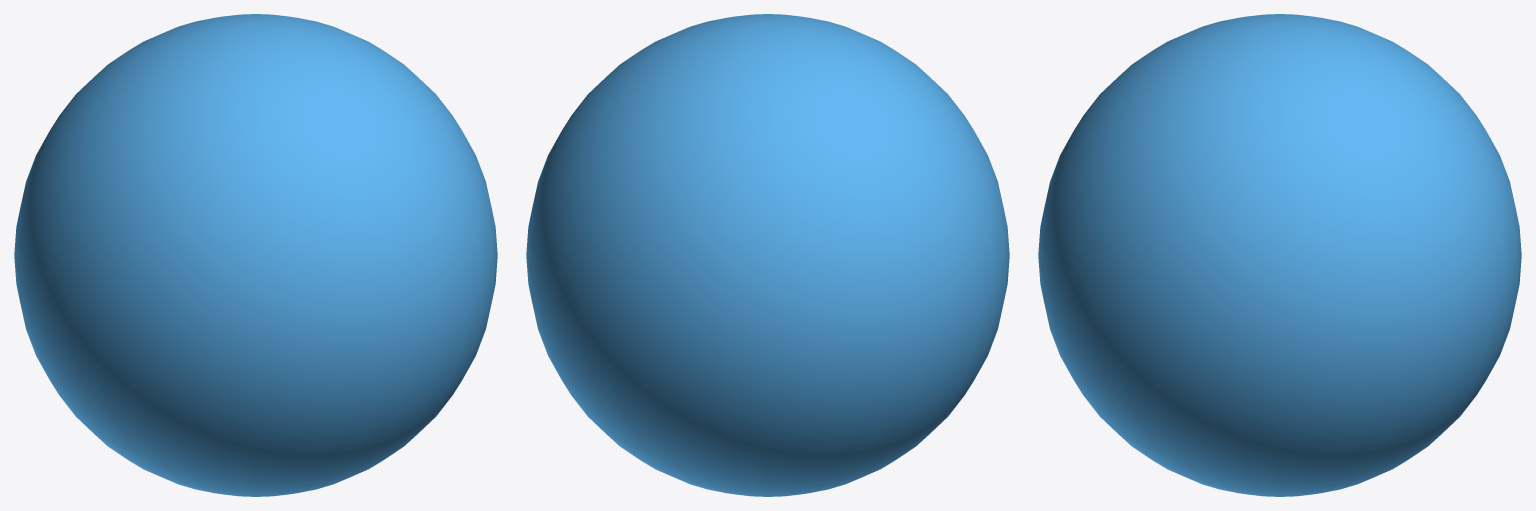
The picture shows the model from 3 angles, left to right: view 1: azimuth 30°, elevation 25°; view 2: azimuth 150°, elevation 25°; view 3: azimuth 270°, elevation 25°; orthographic projection.
Visible parts, largest first — view 1: Blob; view 2: Blob; view 3: Blob.
Part boxes in pixels (left/top/right/bottom): Blob: left=14, top=14, right=497, bottom=496; Blob: left=526, top=14, right=1009, bottom=496; Blob: left=1038, top=14, right=1521, bottom=496.
Bounding box in the file's own units: 1 × 1 × 1.
